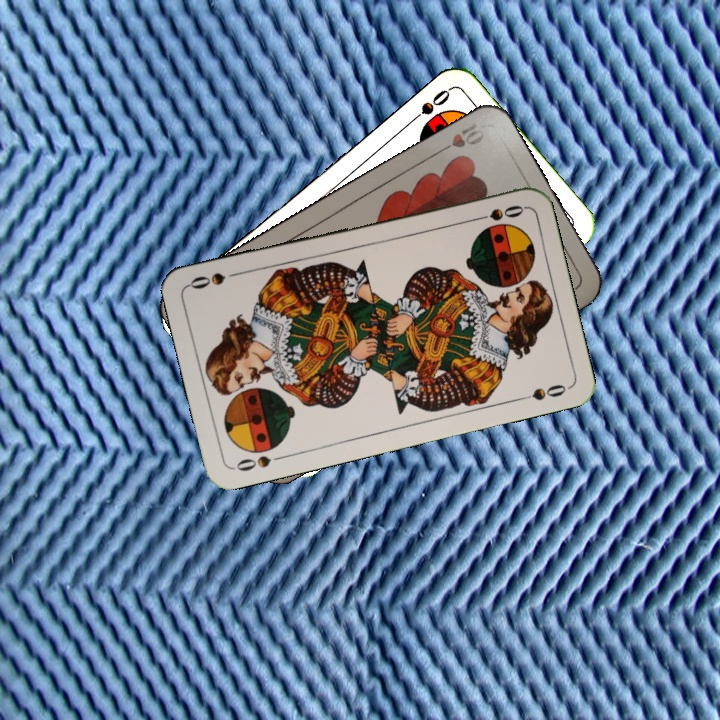H10: (432, 118, 487, 157)
SO: (403, 85, 453, 128), (468, 201, 527, 224), (229, 451, 288, 474)
